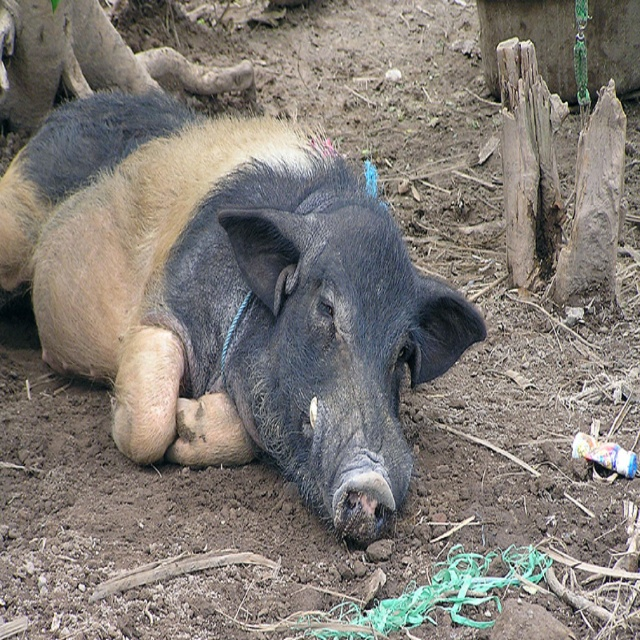Pig: (0, 85, 486, 547)
